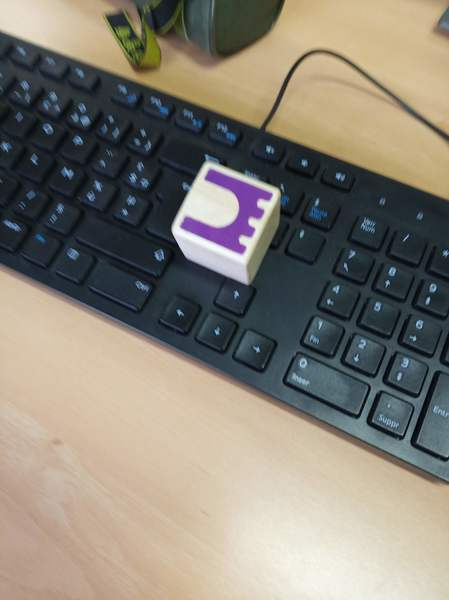violet: (173, 163, 280, 273)
